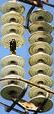gap: (1, 33, 27, 68)
